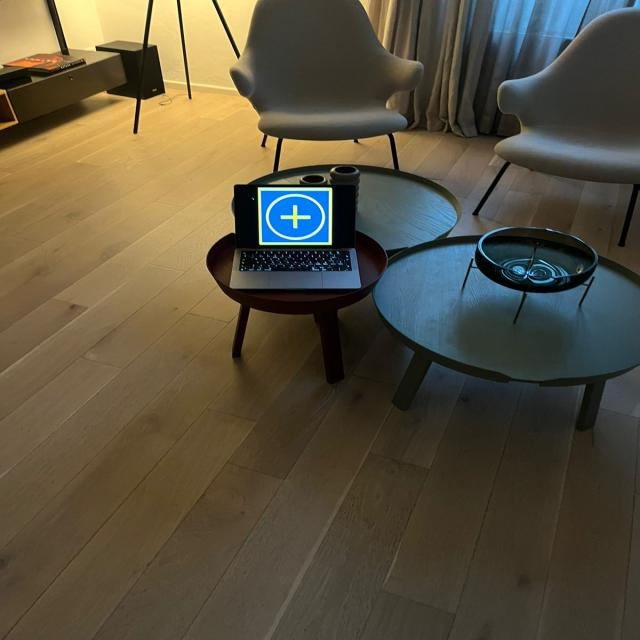Marker: (258, 187, 332, 245)
